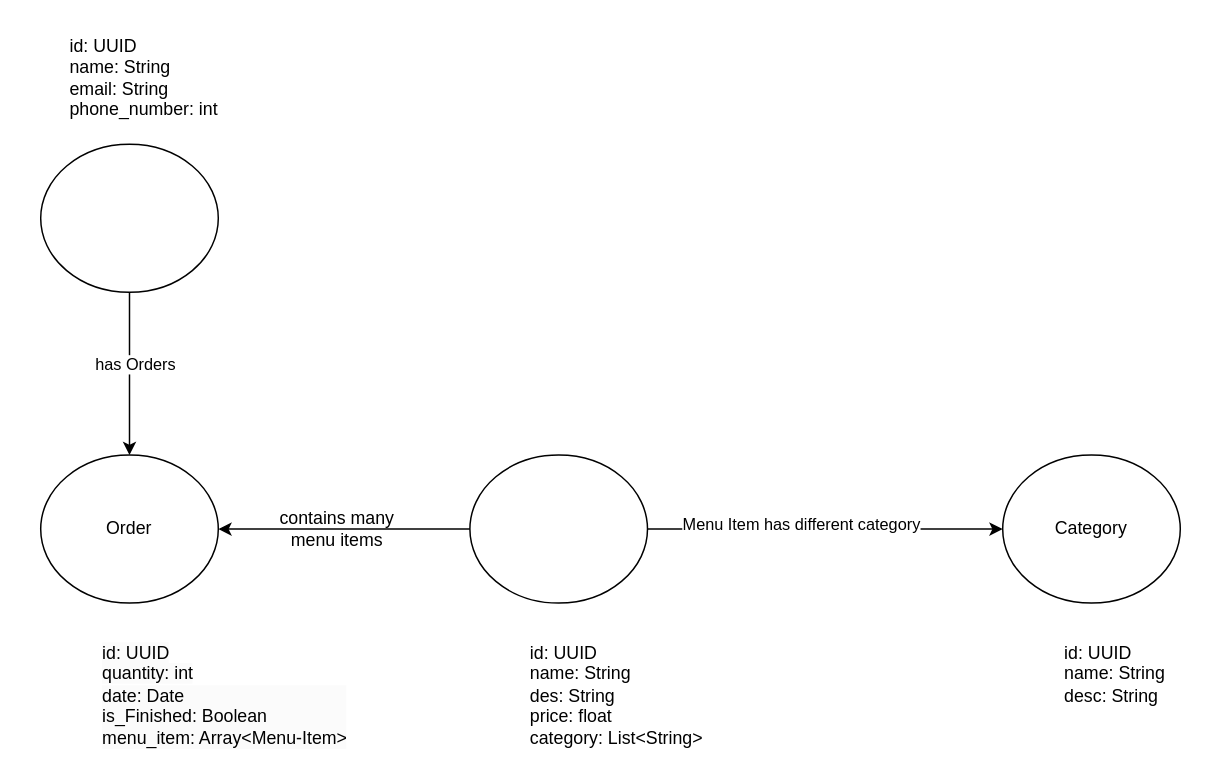
The diagram is 1206 pixels wide and 774 high, and some of its shapes have lost their labels. The centre of each missing label's shape, as x and y in pixels:
Customer: point (128, 217)
Menu-Item: point (558, 528)
